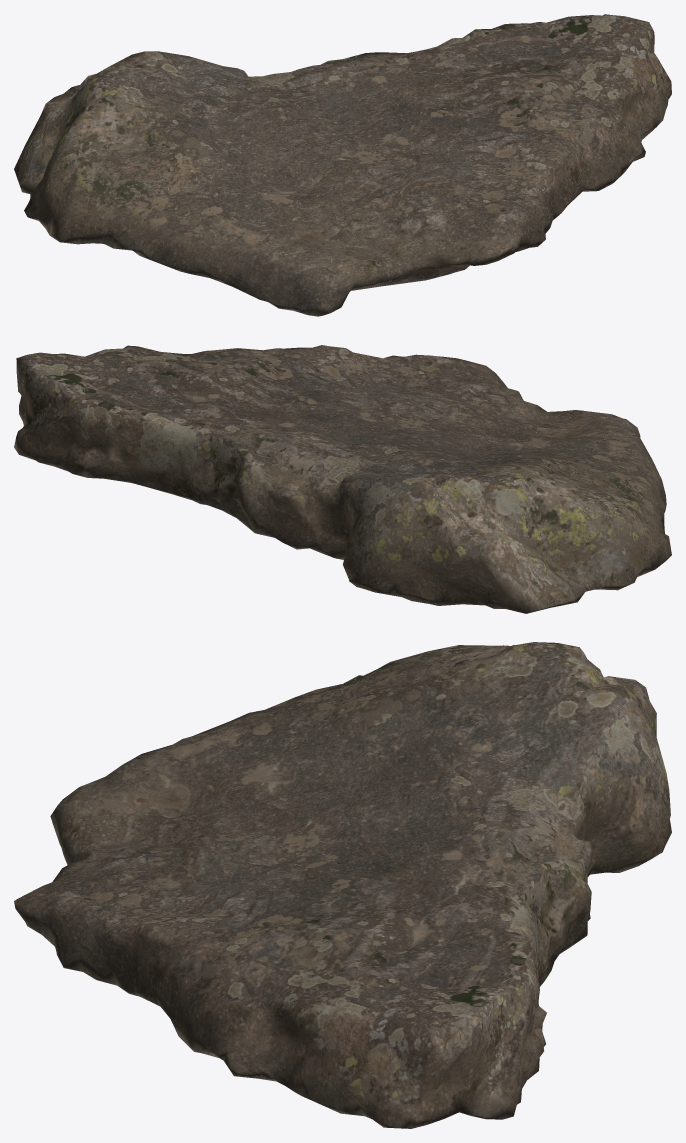
File: SM_wgxidev_tier_2.gltf
3 views of the same model, one above another, from view 1: azimuth 30°, elevation 25°; view 2: azimuth 150°, elevation 25°; view 3: azimuth 270°, elevation 25° (orthographic). The views are drawn at different scales.
Visible parts, largest first — view 1: wgxidev_LOD2_TIER2_000; view 2: wgxidev_LOD2_TIER2_000; view 3: wgxidev_LOD2_TIER2_000.
Part boxes in pixels (x1=…): wgxidev_LOD2_TIER2_000: x1=14, y1=14, x2=671, y2=316; wgxidev_LOD2_TIER2_000: x1=14, y1=345, x2=671, y2=613; wgxidev_LOD2_TIER2_000: x1=14, y1=642, x2=671, y2=1128.
Bounding box in the file's own units: 1.38 × 0.2842 × 0.9097.
1 material, 1 textured.
